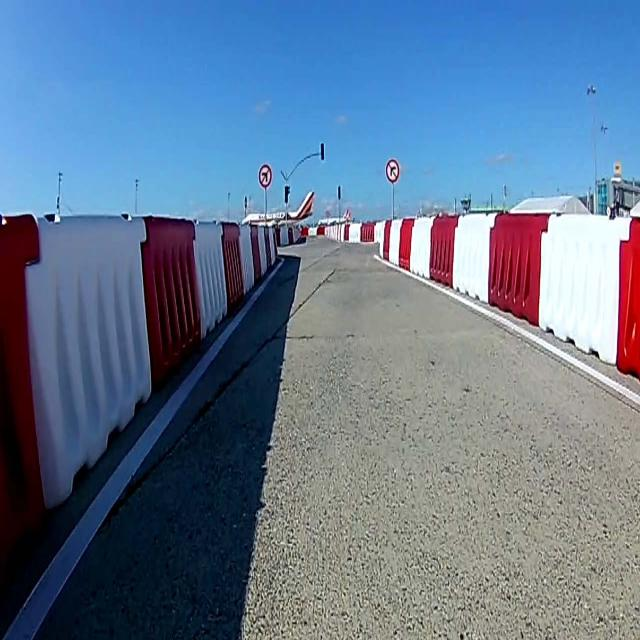sagadonulmez: (386, 159, 398, 182)
soladonulmez: (258, 164, 272, 188)
